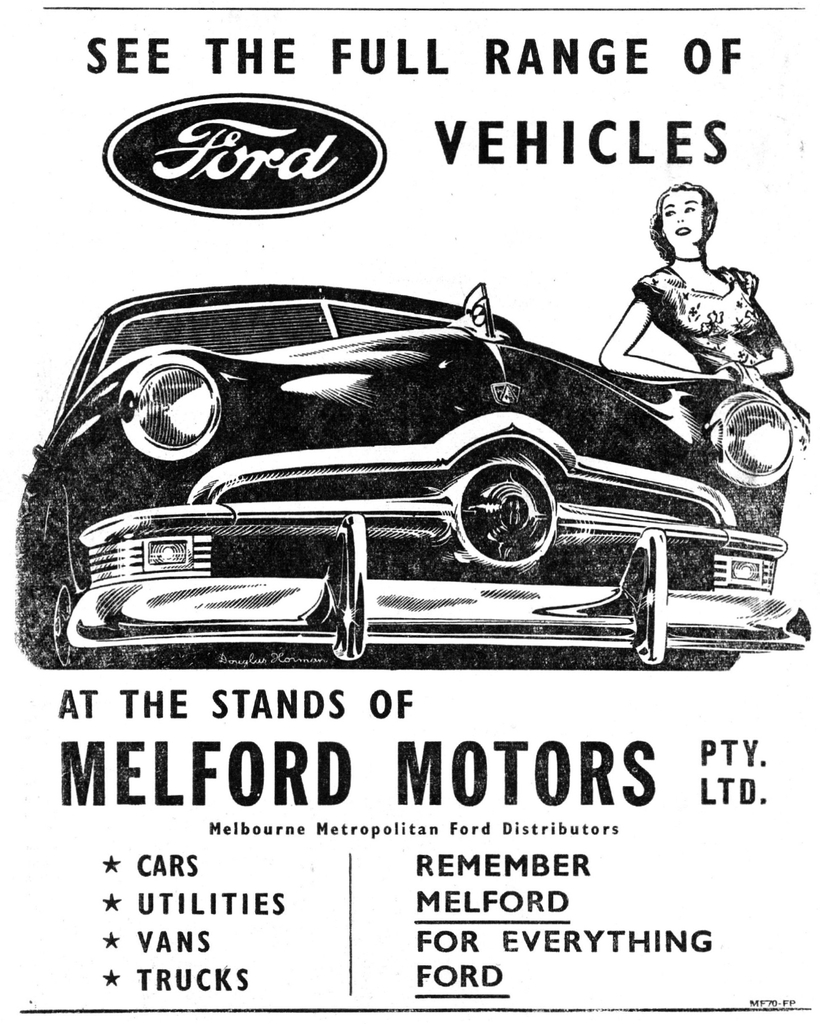Car: (23, 256, 741, 680)
